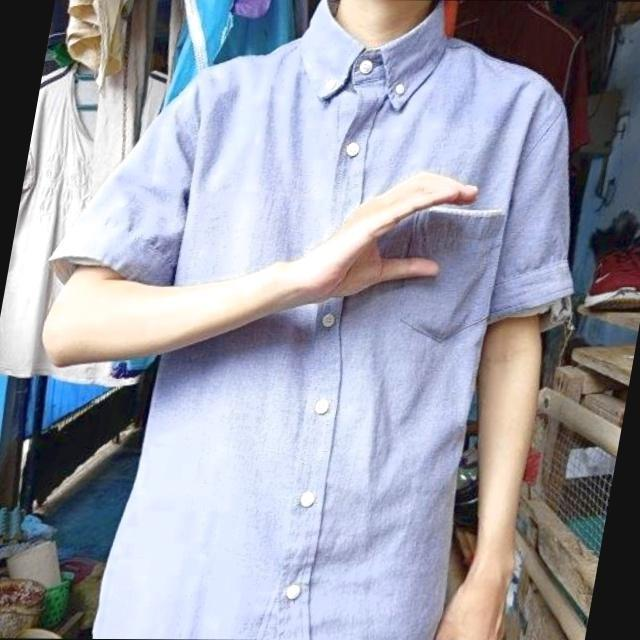C: (312, 160, 482, 308)
